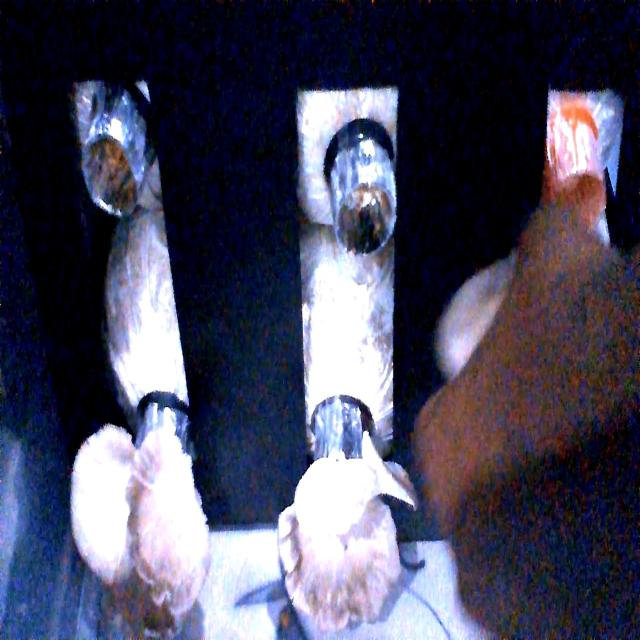big: (73, 438, 205, 602), (283, 475, 402, 614)
nfound: (76, 137, 146, 215), (332, 192, 401, 256)
